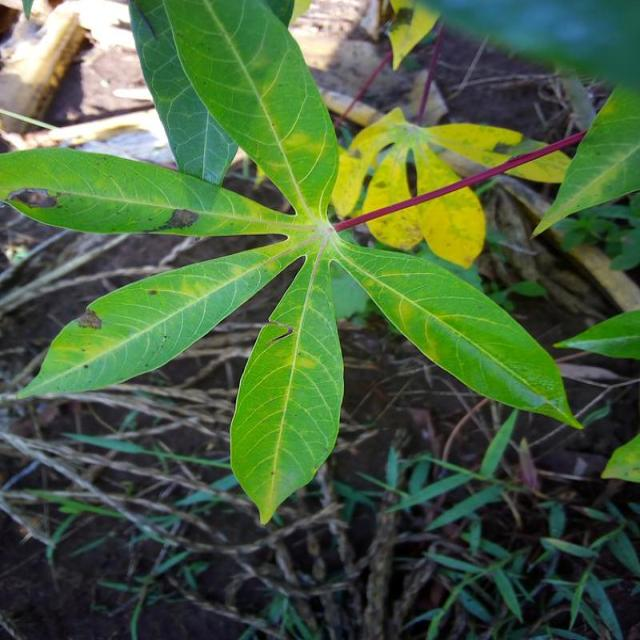cassava leaf: (1, 0, 582, 525), (229, 247, 345, 526)
